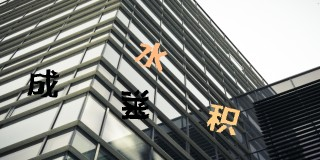成: (27, 69, 60, 97)
水: (134, 42, 168, 73)
渊: (119, 89, 151, 119)
积: (205, 102, 242, 137)
